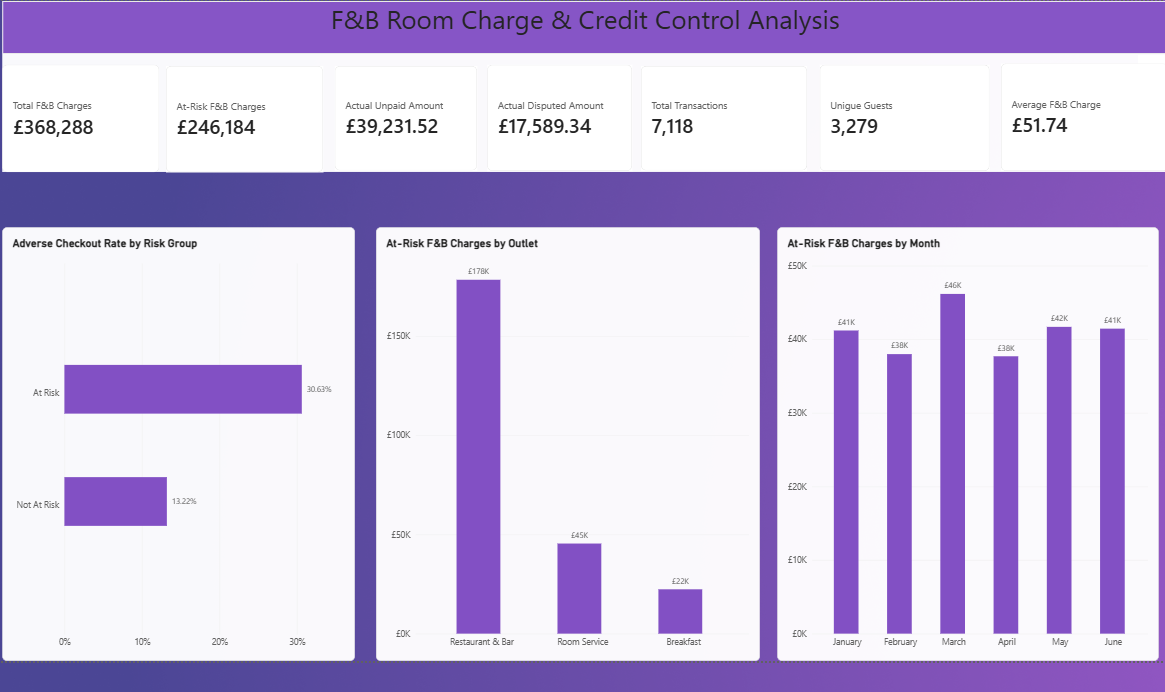

Layout of this report page (visuals, bound fields, positions):
{"tool":"powerbi","page":{"name":"Page 1","canvas":[1920,1080],"ordinal":0},"visuals":[{"type":"textbox","box":[10.3,0,1910.1,279.9],"z":0},{"type":"textbox","box":[10.3,0,1910.1,86.4],"z":1000},{"type":"cardVisual","fields":{"Data":["Sum(fb_charges.charge_amount)"]},"box":[10.2,104.4,258,176.1],"z":2000},{"type":"cardVisual","fields":{"Data":["CountNonNull(fb_charges.transaction_id)"]},"box":[1056.4,106.5,272.3,172],"z":3000},{"type":"cardVisual","fields":{"Data":["Count(fb_charges.guest_id)"]},"box":[1349.2,104.4,278.4,174],"z":4000},{"type":"cardVisual","fields":{"Data":["Avg(fb_charges.charge_amount)"]},"box":[1646.1,102.4,274.3,176.1],"z":5000},{"type":"cardVisual","fields":{"Data":["fb_charges.At-Risk F&B Charges"]},"box":[278.4,106.5,258,174],"z":6000},{"type":"cardVisual","fields":{"Data":["guest_accounts.Actual Unpaid Amount"]},"box":[554.8,106.5,233.4,172],"z":7000},{"type":"cardVisual","fields":{"Data":["guest_accounts.Actual Disputed Amount"]},"box":[804.6,104.4,237.5,174],"z":8000},{"type":"clusteredBarChart","fields":{"Category":["guest_accounts.Risk Group"],"Y":["guest_accounts.Adverse Checkout Rate"]},"box":[10.2,370.6,577.4,710.4],"z":9000},{"type":"clusteredColumnChart","title":"At-Risk F&B Charges by Outlet","fields":{"Category":["fb_charges.outlet"],"Y":["fb_charges.At-Risk F&B Charges"]},"box":[622.4,370.6,628.5,710.4],"z":10000},{"type":"clusteredColumnChart","fields":{"Category":["fb_charges.transaction_date.Variation.Date Hierarchy.Month"],"Y":["fb_charges.At-Risk F&B Charges"]},"box":[1279.6,370.6,624.4,710.4],"z":11000}]}

Visuals, with their boxes in screenshot pixels (x1, y1, x2, y2):
textbox: 0:0:1164:168
textbox: 0:0:1164:48
cardVisual - Sum(fb_charges.charge_amount): 0:59:157:168
cardVisual - CountNonNull(fb_charges.transaction_id): 646:60:815:167
cardVisual - Count(fb_charges.guest_id): 828:59:1001:167
cardVisual - Avg(fb_charges.charge_amount): 1012:57:1164:167
cardVisual - fb_charges.At-Risk F&B Charges: 164:60:324:168
cardVisual - guest_accounts.Actual Unpaid Amount: 335:60:480:167
cardVisual - guest_accounts.Actual Disputed Amount: 490:59:637:167
clusteredBarChart - guest_accounts.Risk Group x guest_accounts.Adverse Checkout Rate: 0:224:355:665
"At-Risk F&B Charges by Outlet" clusteredColumnChart: 377:224:767:665
clusteredColumnChart - fb_charges.transaction_date.Variation.Date Hierarchy.Month x fb_charges.At-Risk F&B Charges: 785:224:1164:665
